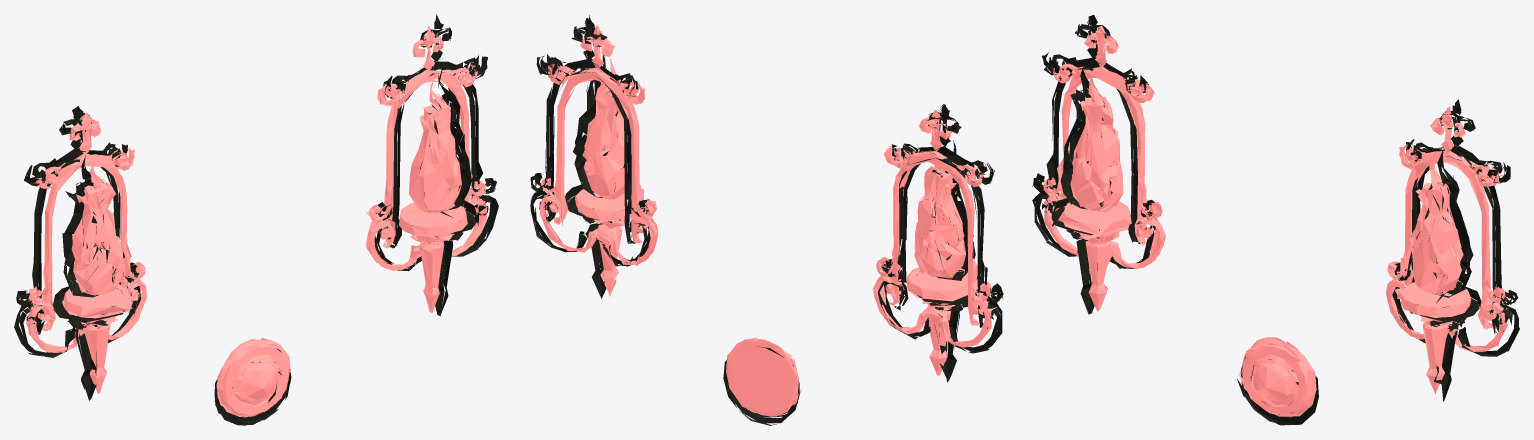
File: df_v2_torch_prop_g_a.glb
3 renders of one model, left to right at view 1: azimuth 30°, elevation 25°; view 2: azimuth 150°, elevation 25°; view 3: azimuth 330°, elevation 25°, orthographic. The views are drawn at different scales.
Parts seen in each view (by area): view 1: torch_prop_g_mesh_01, torch_prop_g_mesh_01_ink_outline; view 2: torch_prop_g_mesh_01, torch_prop_g_mesh_01_ink_outline; view 3: torch_prop_g_mesh_01, torch_prop_g_mesh_01_ink_outline.
Part boxes in pixels (left/top/right/bottom): torch_prop_g_mesh_01: left=26, top=26, right=487, bottom=417; torch_prop_g_mesh_01_ink_outline: left=14, top=14, right=498, bottom=425; torch_prop_g_mesh_01: left=539, top=25, right=992, bottom=416; torch_prop_g_mesh_01_ink_outline: left=530, top=15, right=1003, bottom=425; torch_prop_g_mesh_01: left=1043, top=25, right=1507, bottom=417; torch_prop_g_mesh_01_ink_outline: left=1032, top=15, right=1519, bottom=425.
Bounding box in the file's own units: 1.05 × 0.7694 × 0.136.
